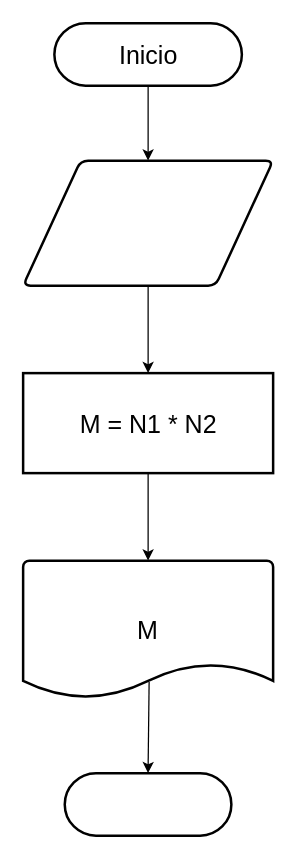
The diagram is 295 pixels wide and 858 high, and some of its shapes have lost their labels. The centre of each missing label's shape, as x and y in pixels:
"Fim" goes at point (147, 803).
"N1, N2" goes at point (147, 222).
